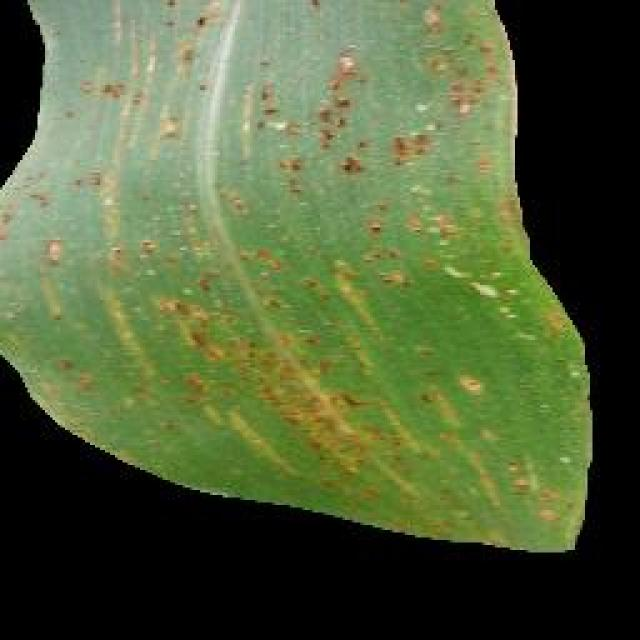Corn Common Rust: (93, 35, 525, 493)
